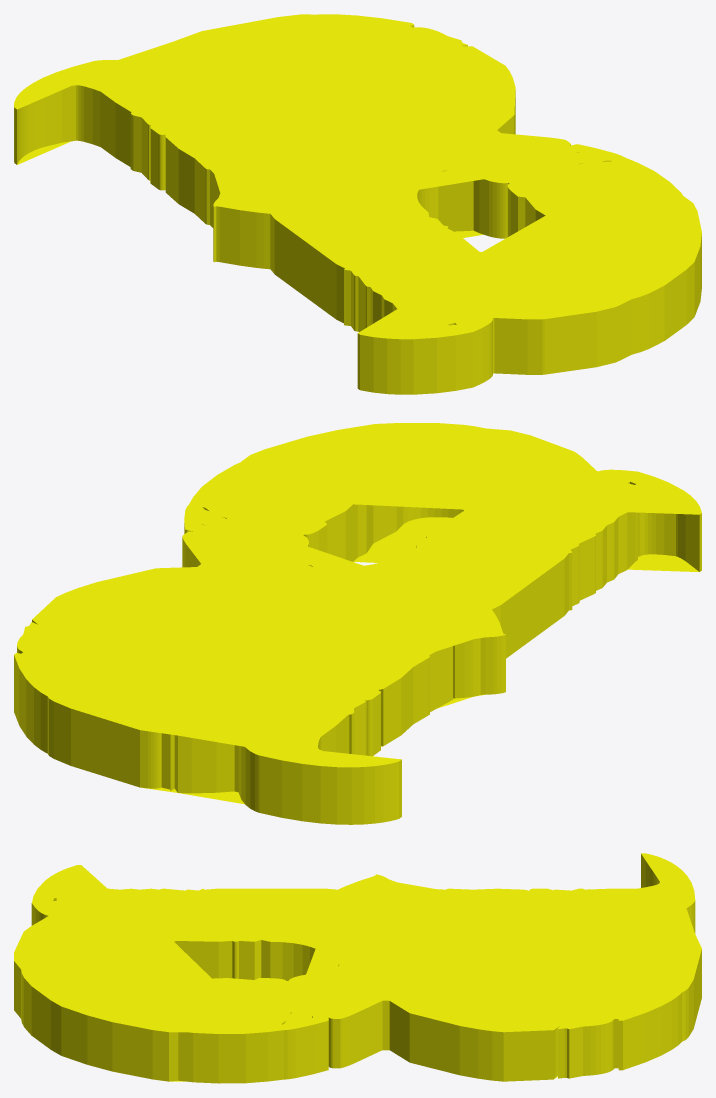
Rendered from Letterb.fbx.
3 renders of one model, top to bottom at view 1: azimuth 30°, elevation 25°; view 2: azimuth 150°, elevation 25°; view 3: azimuth 270°, elevation 25°, orthographic. The views are drawn at different scales.
Parts seen in each view (by area): view 1: path2195.001; view 2: path2195.001; view 3: path2195.001.
Part boxes in pixels (x1=…): path2195.001: x1=14, y1=14, x2=701, y2=394; path2195.001: x1=14, y1=423, x2=701, y2=824; path2195.001: x1=14, y1=853, x2=701, y2=1083.
Bounding box in the file's own units: 3.92 × 0.5 × 6.31.
